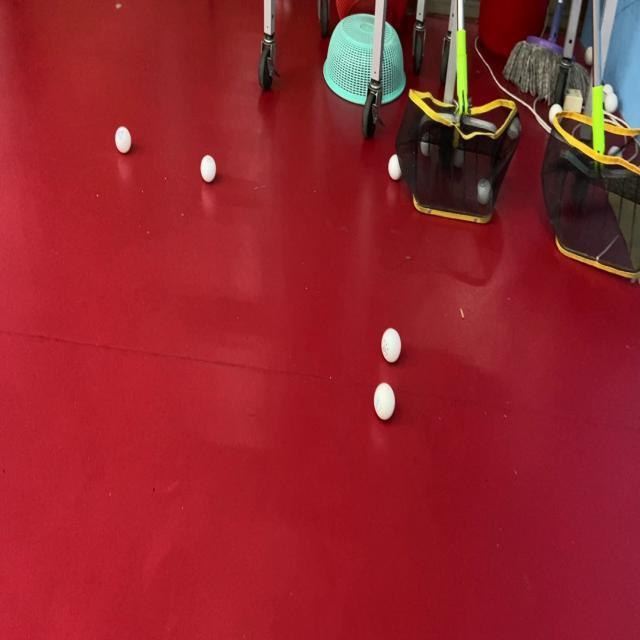ping-pong-ball: (373, 380, 397, 422), (381, 324, 402, 364), (199, 153, 217, 185), (114, 124, 132, 154), (386, 152, 404, 182), (604, 90, 619, 116), (548, 100, 562, 122), (584, 44, 596, 66)
